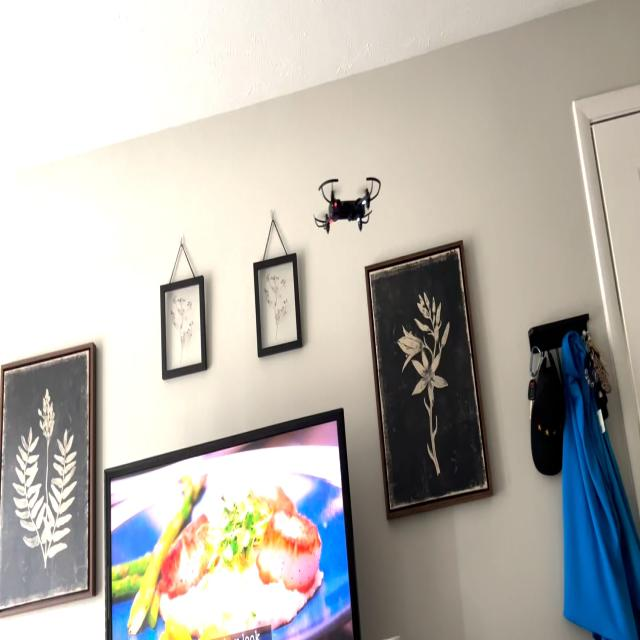drone: (308, 167, 386, 247)
